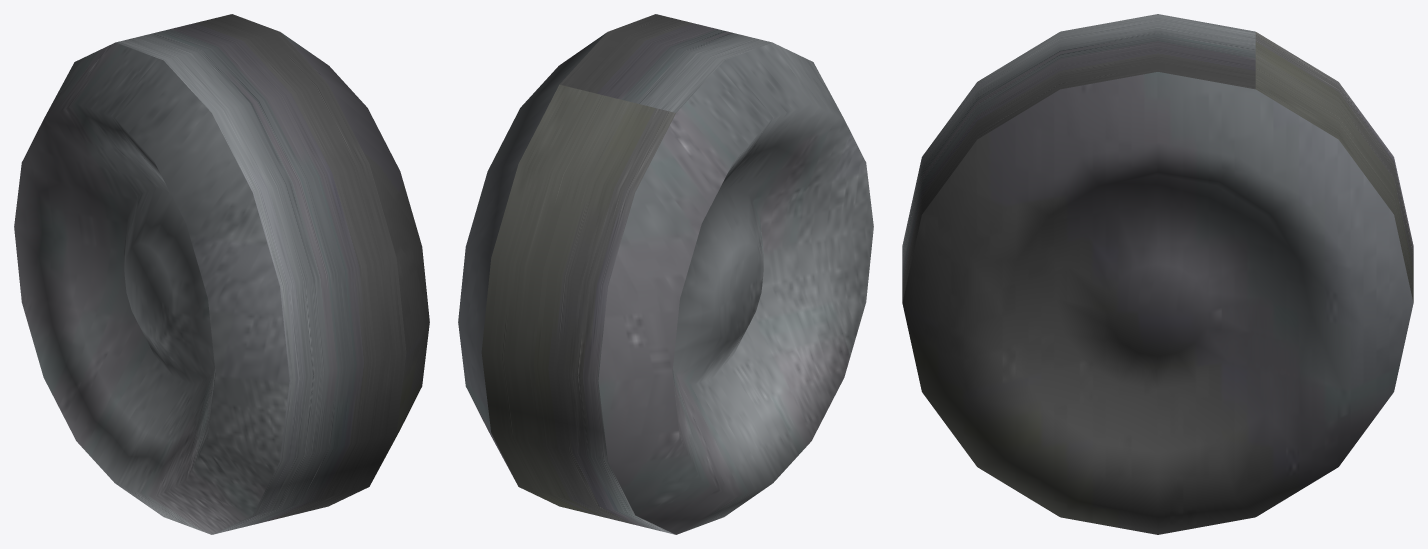
The model's file is truckTire.fbx.
3 views of the same model, side by side, from view 1: azimuth 30°, elevation 25°; view 2: azimuth 150°, elevation 25°; view 3: azimuth 270°, elevation 25° (orthographic).
Parts seen in each view (by area): view 1: polySurface17; view 2: polySurface17; view 3: polySurface17.
Part boxes in pixels (x1=…): polySurface17: x1=14, y1=14, x2=429, y2=534; polySurface17: x1=458, y1=14, x2=873, y2=534; polySurface17: x1=902, y1=14, x2=1413, y2=534.
Bounding box in the file's own units: 0.00245 × 0.005 × 0.005.
